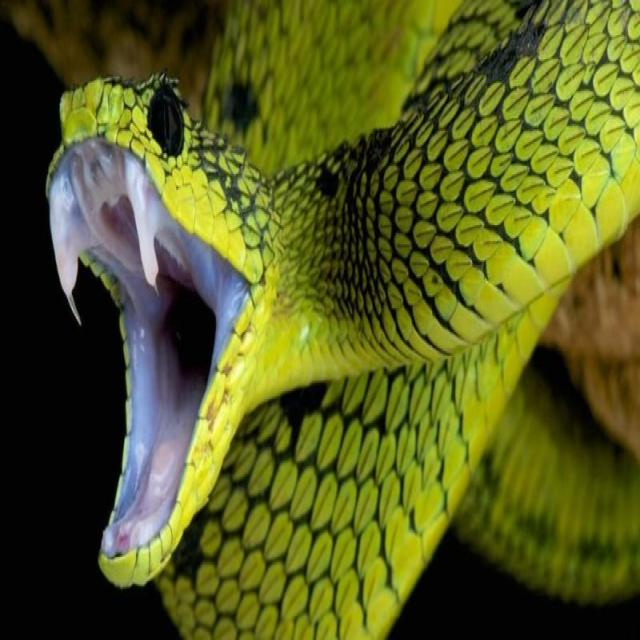Carnivorous: (45, 0, 640, 640)
